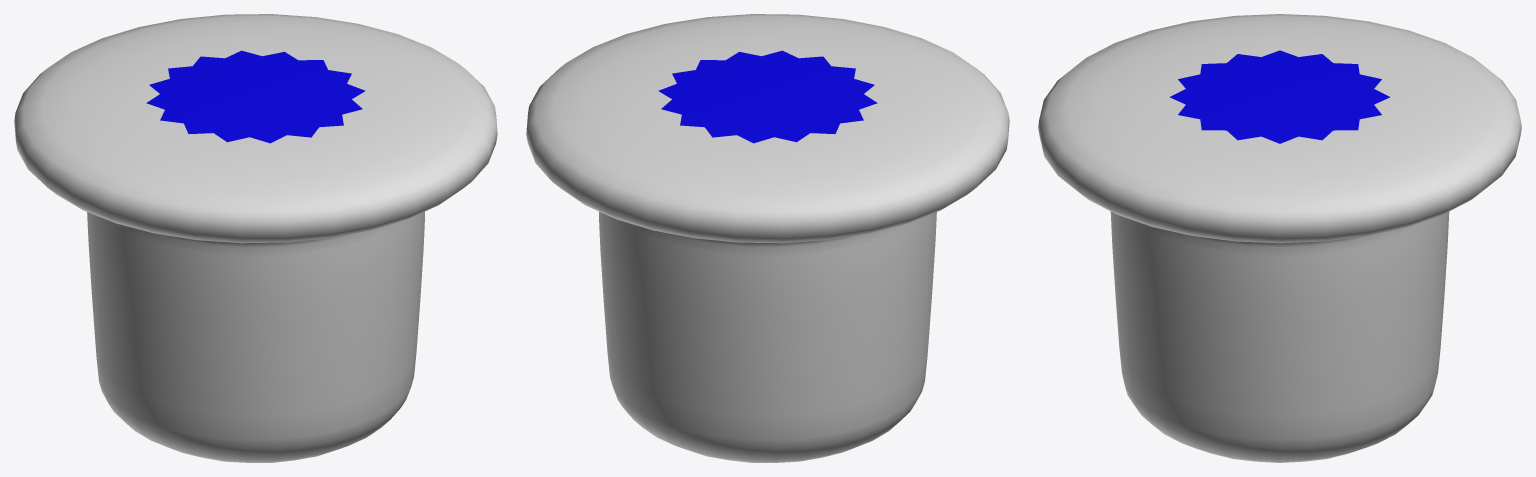
Rendered from Big_Stopper.fbx.
3 renders of one model, left to right at view 1: azimuth 30°, elevation 25°; view 2: azimuth 150°, elevation 25°; view 3: azimuth 270°, elevation 25°, orthographic.
Visible parts, largest first — view 1: Big stopper; view 2: Big stopper; view 3: Big stopper.
Part boxes in pixels (x1=…): Big stopper: x1=14, y1=14, x2=497, y2=462; Big stopper: x1=526, y1=14, x2=1009, y2=462; Big stopper: x1=1038, y1=14, x2=1521, y2=462.
Size of the model in its own units: 5.11 by 3.81 by 5.11.
